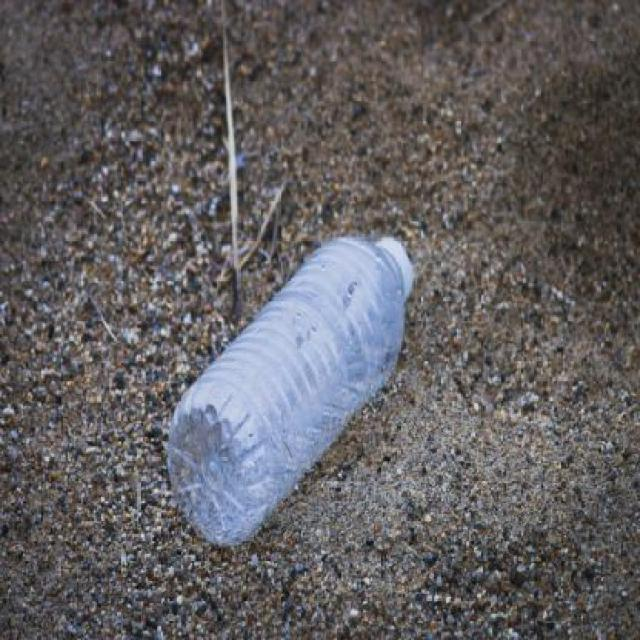bottle: (160, 237, 414, 550)
